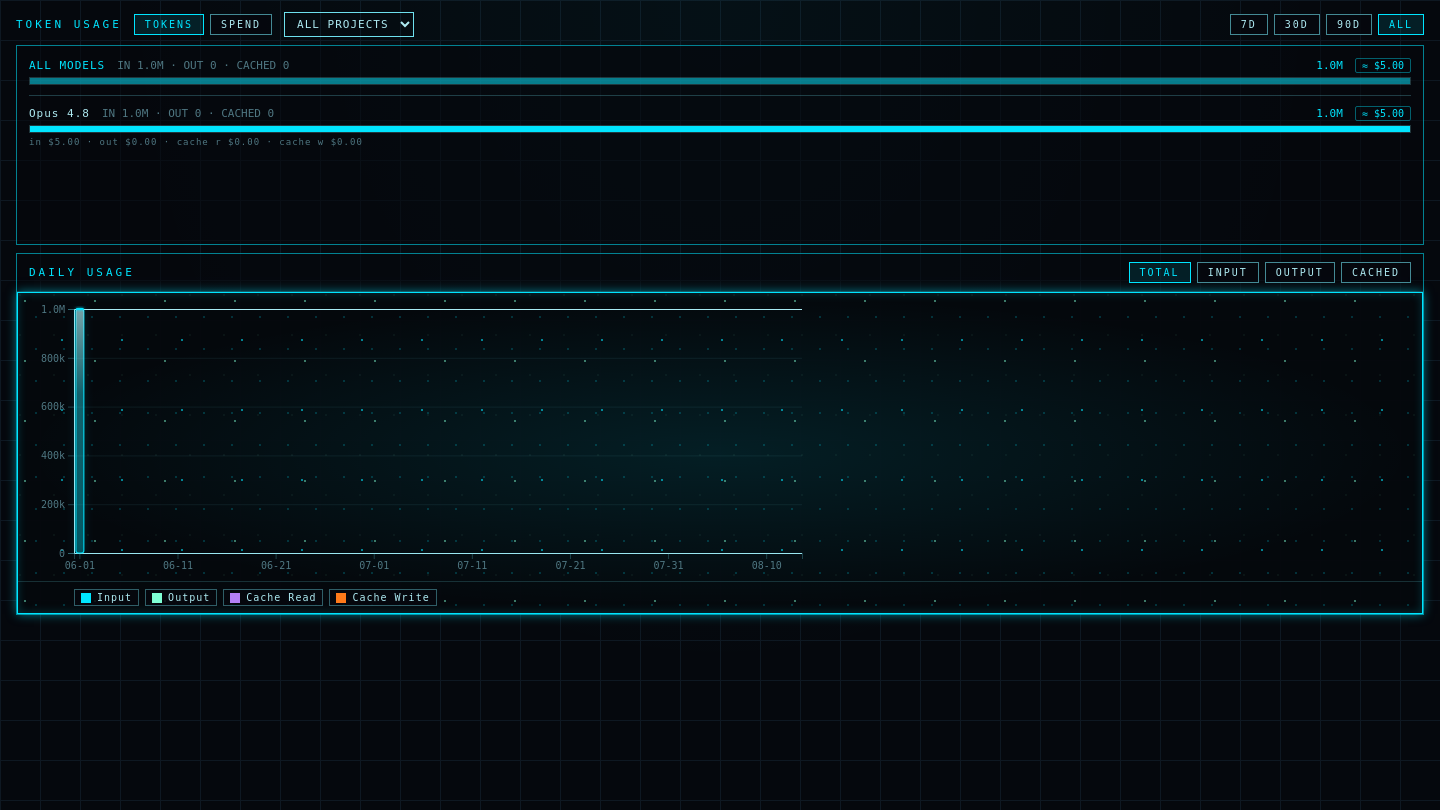
Test case: TokensPage view toggle › SPEND defaults to the MATRIX mode
Click the button with test id "usage-view-spend": (241,24) [210,14,272,35]
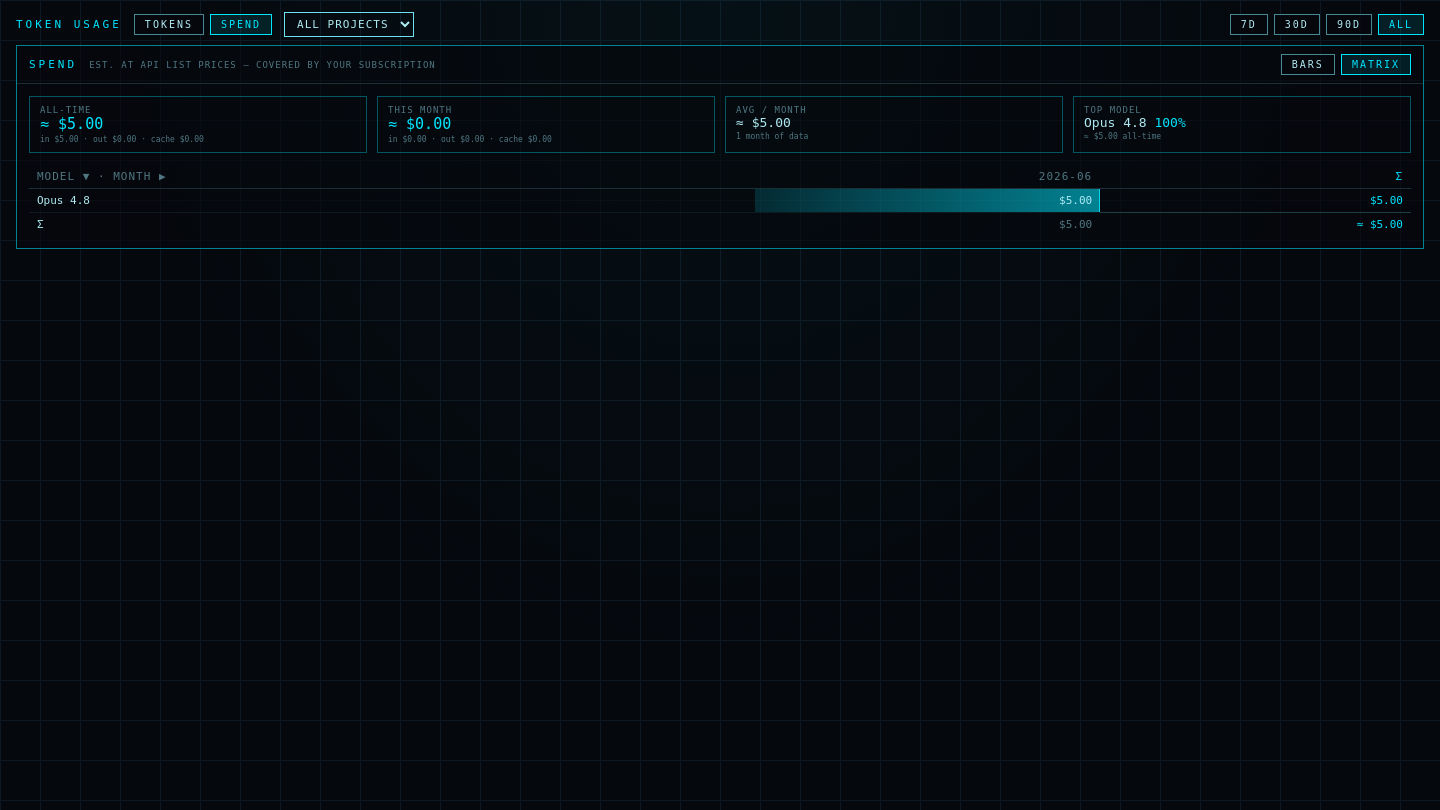
Check: the element with test id "spend-matrix" is shown, box [17,84,1423,248]
Check: the text with test id "spend-disclaimer" shows "API LIST PRICES", box [89,60,436,70]
